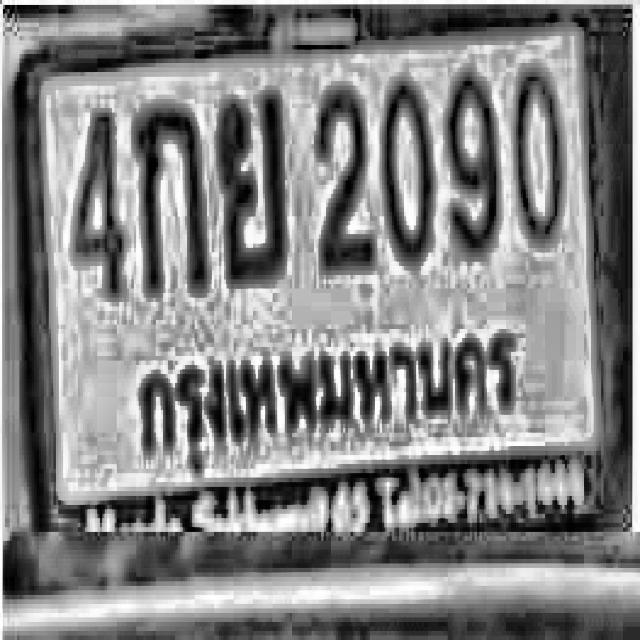license-plate: (19, 30, 614, 563)
